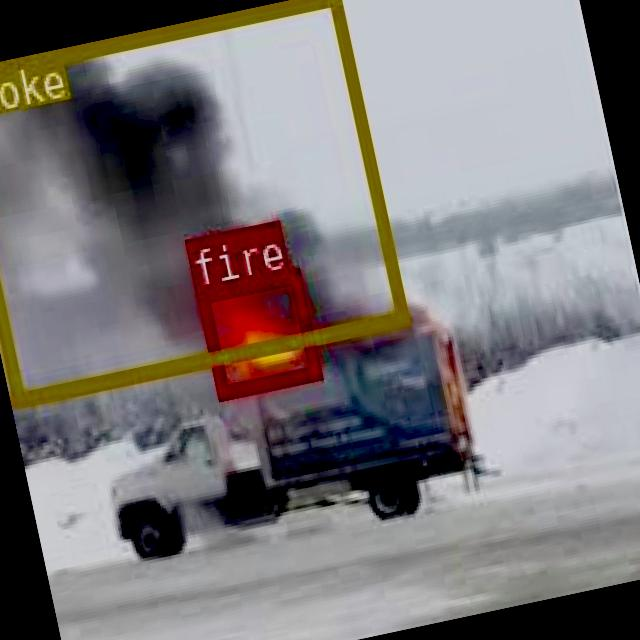fire: (194, 268, 320, 397)
smoke: (0, 0, 405, 403)
